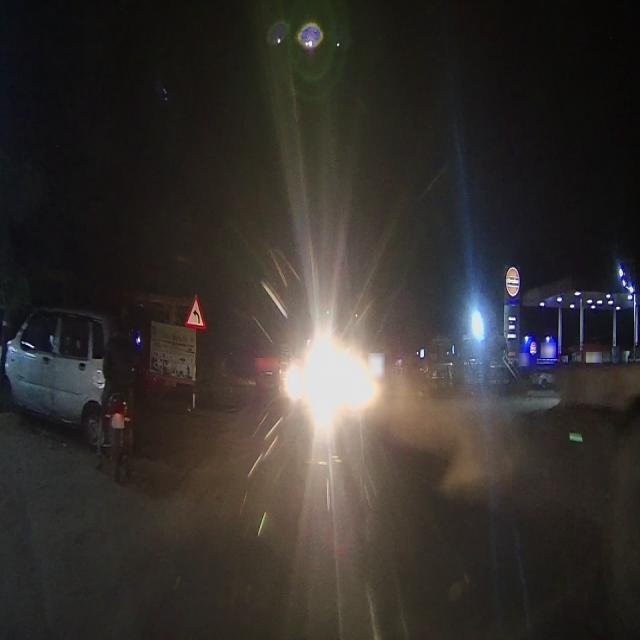left-hand-curve: (185, 293, 204, 326)
